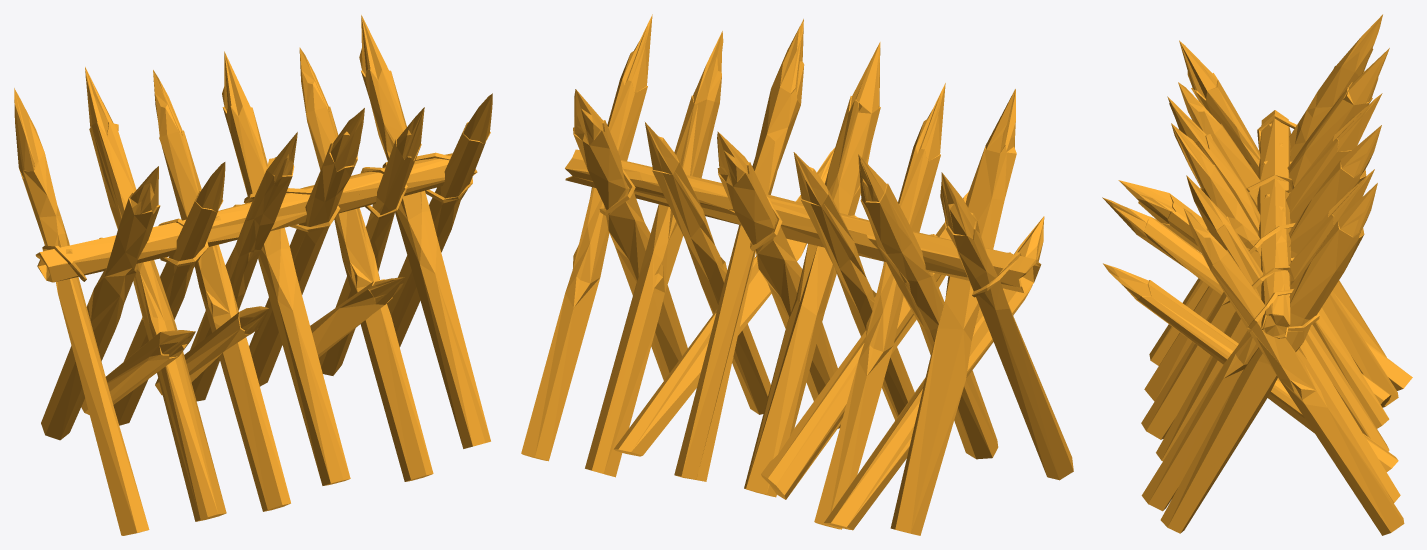
File: SM_Barricade_A.fbx
3 renders of one model, left to right at view 1: azimuth 30°, elevation 25°; view 2: azimuth 150°, elevation 25°; view 3: azimuth 270°, elevation 25°, orthographic. The views are drawn at different scales.
Visible parts, largest first — view 1: barricade-a; view 2: barricade-a; view 3: barricade-a.
Part boxes in pixels (left/top/right/bottom): barricade-a: left=14, top=15, right=492, bottom=535; barricade-a: left=521, top=14, right=1073, bottom=535; barricade-a: left=1102, top=14, right=1412, bottom=535.
Bounding box in the file's own units: 2.92 × 2.46 × 1.9.
